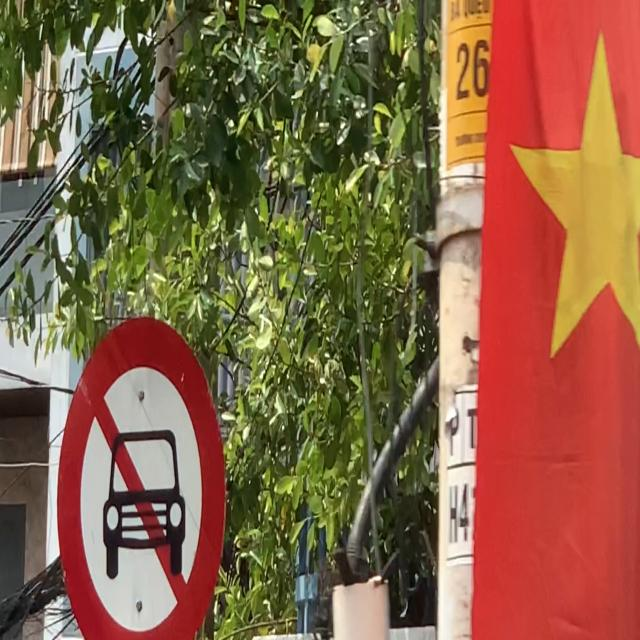Cam con lai: (55, 314, 221, 640)
